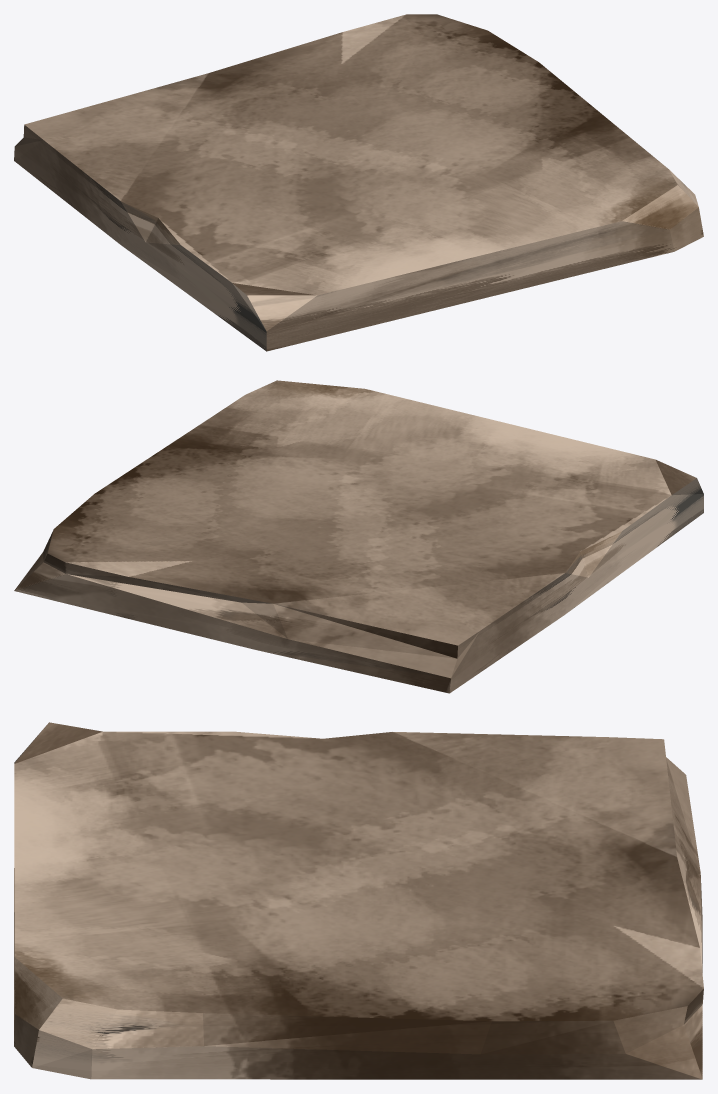
The model's file is LO_path_rock1.glb.
The picture shows the model from 3 angles, top to bottom: view 1: azimuth 30°, elevation 25°; view 2: azimuth 150°, elevation 25°; view 3: azimuth 270°, elevation 25°; orthographic projection. The views are drawn at different scales.
Visible parts, largest first — view 1: Cube; view 2: Cube; view 3: Cube.
Boxes of the visible parts, bbox=[...] form: Cube: bbox=[14, 14, 703, 351]; Cube: bbox=[14, 380, 703, 693]; Cube: bbox=[14, 722, 703, 1079].
Bounding box in the file's own units: 2.03 × 0.2054 × 2.01.
Materials: 1 (1 with a texture image).
